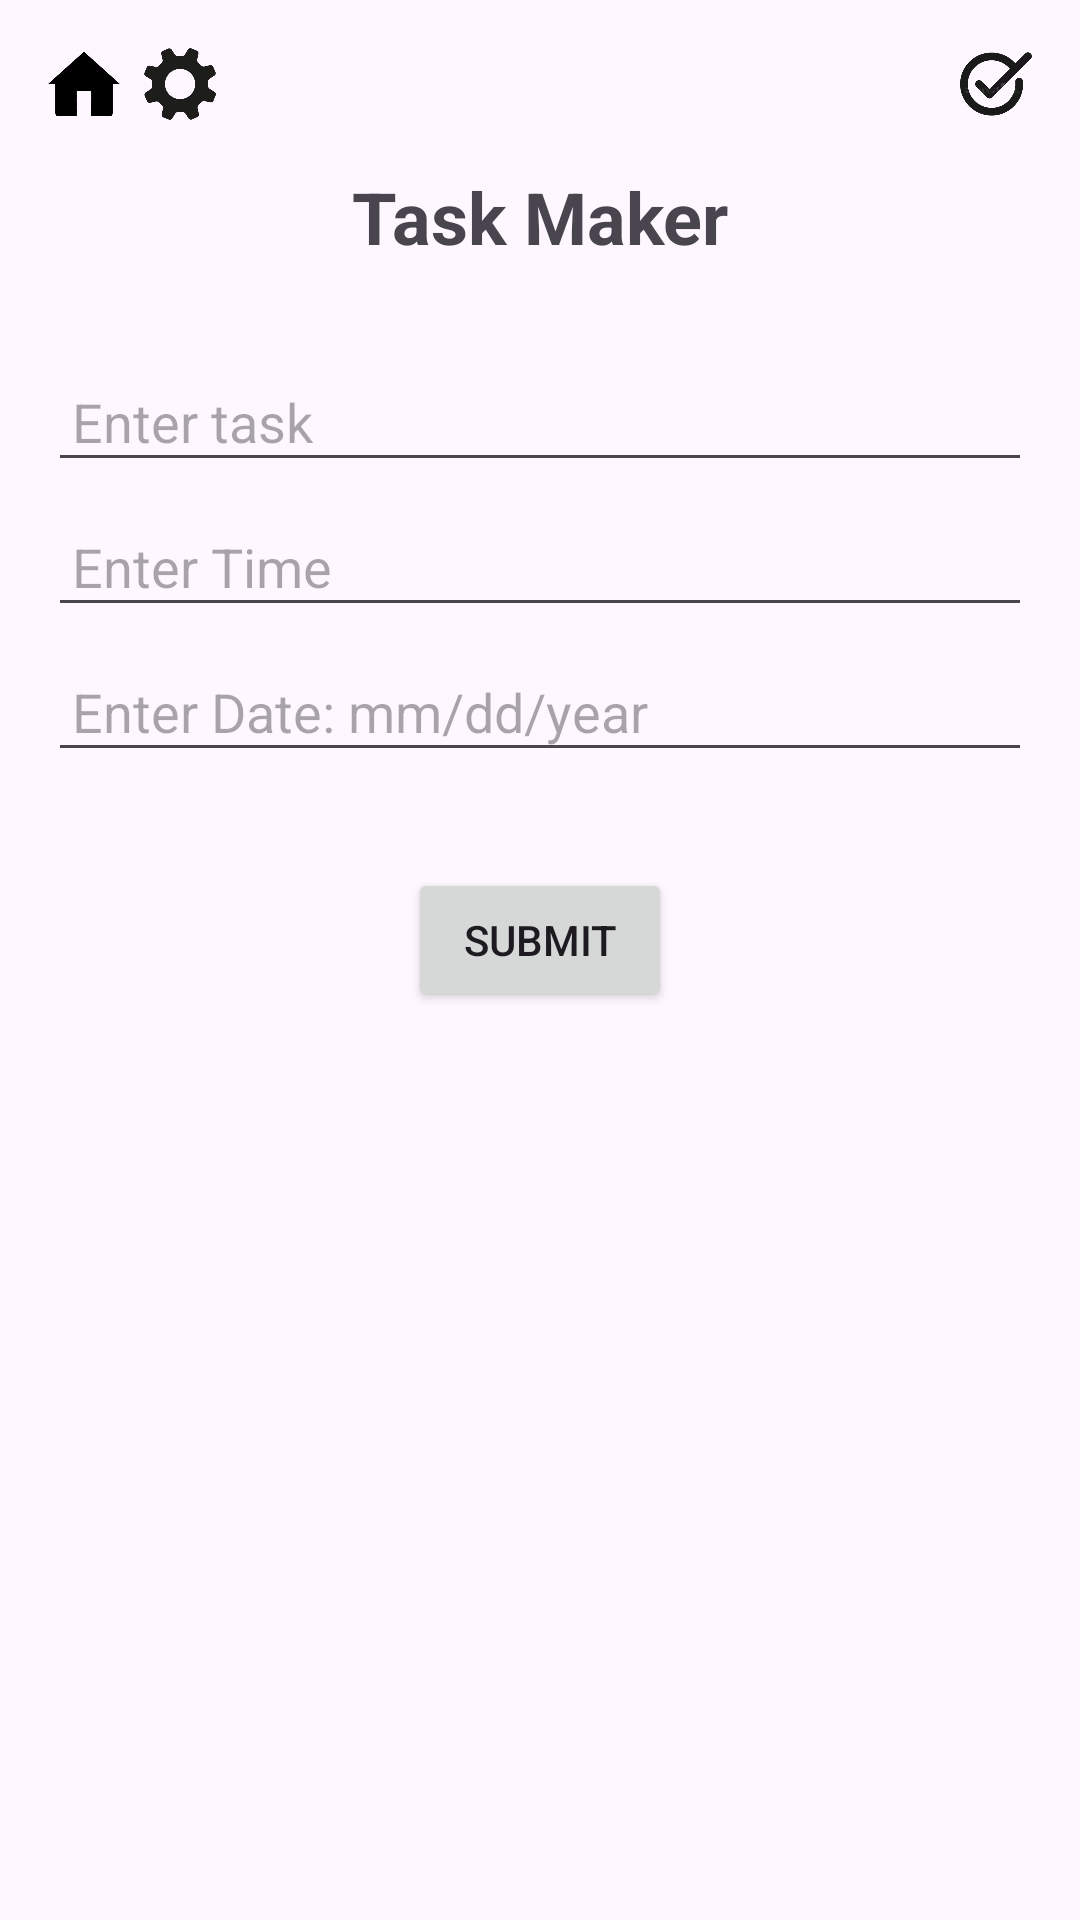

Icons on this 1080px x 1920px Android screen, each with the point to tap as point (x, y):
Home button: point (84, 84)
Settings Button: point (180, 84)
Tasks button: point (996, 84)
